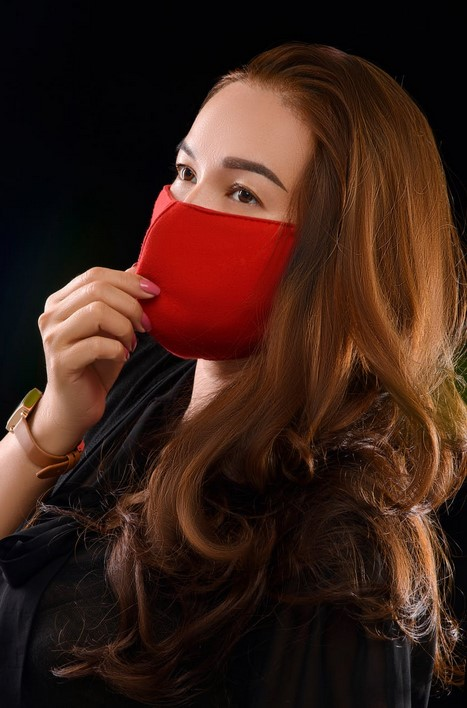face_with_mask: (132, 65, 390, 366)
